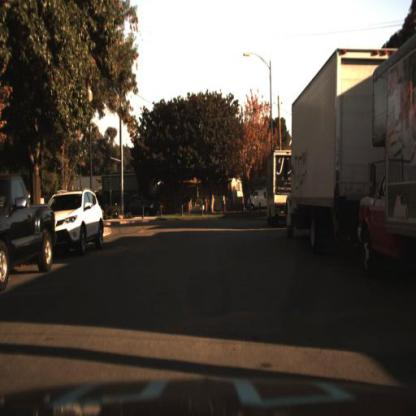car: (1, 174, 56, 290), (56, 186, 116, 259), (45, 187, 106, 253), (267, 147, 292, 235), (138, 200, 173, 221), (245, 186, 270, 211), (247, 189, 265, 214)
truck: (285, 44, 390, 250), (284, 62, 358, 262), (265, 144, 290, 221)
